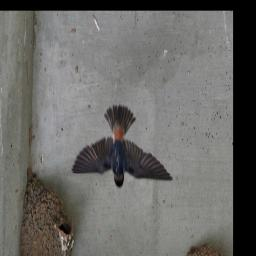Swallow: (71, 104, 176, 191)
